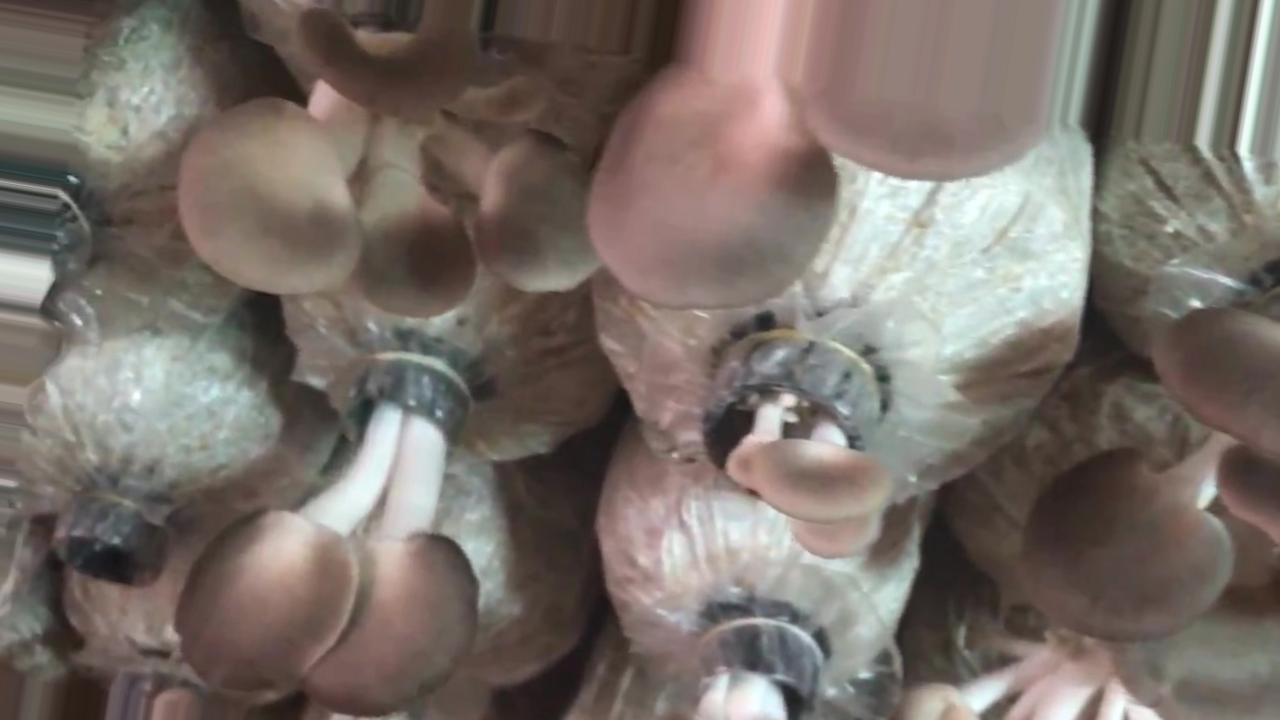nam: (589, 1, 1051, 306), (178, 1, 602, 316), (178, 362, 480, 714), (1025, 280, 1280, 638), (710, 342, 892, 560)
